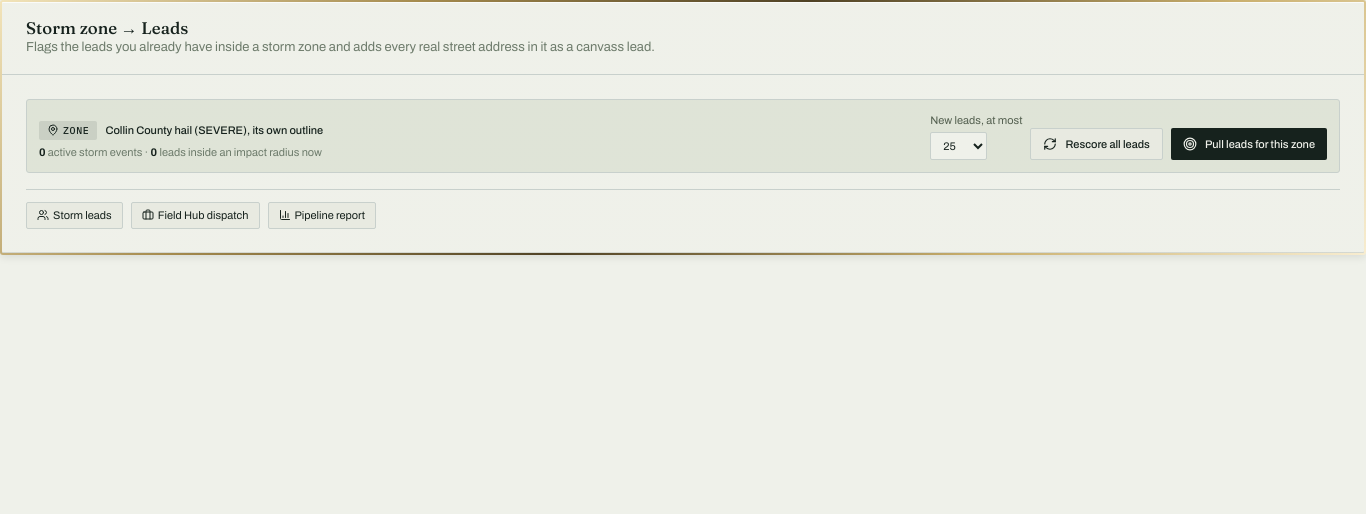
Test: Storm zone -> Leads panel › says plainly when address lookup is not configured
Click the button "Pull leads for this zone" at (1249, 144), box [1171, 128, 1327, 160]
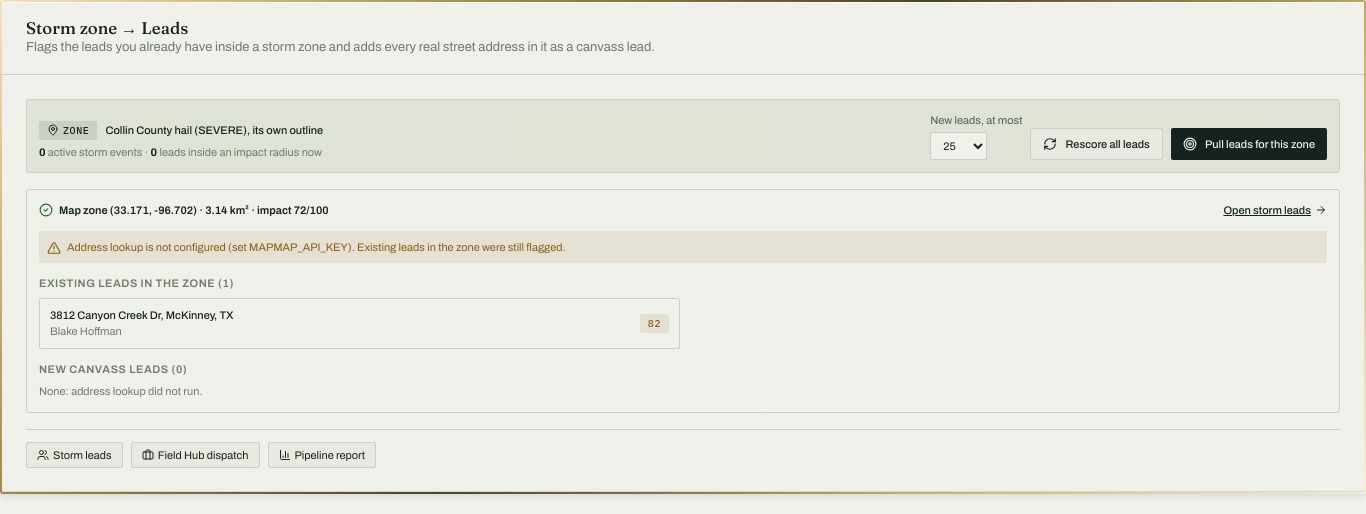
Now the message shows "not configured", box [67, 241, 566, 253]
Now the text "None: address lookup did not run." is shown, box [39, 385, 202, 397]
